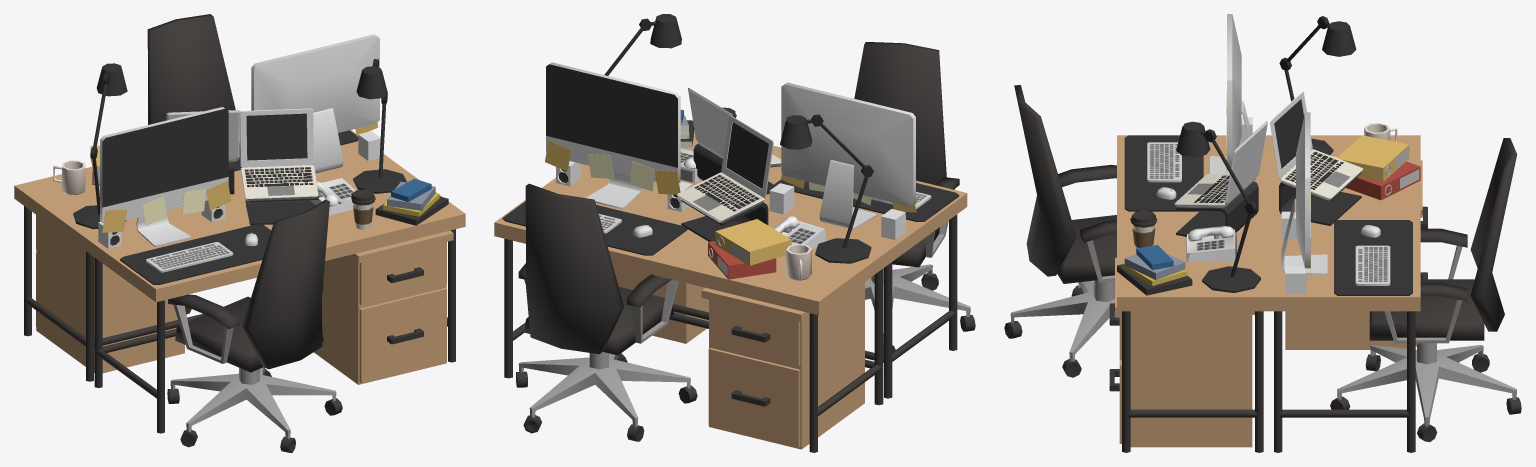
Rendered from Group_desk_07.FBX.
The picture shows the model from 3 angles, left to right: view 1: azimuth 30°, elevation 25°; view 2: azimuth 150°, elevation 25°; view 3: azimuth 270°, elevation 25°; orthographic projection. The views are drawn at different scales.
Parts seen in each view (by area): view 1: chair_01, drawer03 (×2), desk_01, monitor_01, monitor_02, desk_02, chair_02, drawer02, notebook01 (×2), drawer01, desk pad_01, notebook02 (+13 smaller); view 2: chair_02, desk_02, monitor_01, monitor_02, chair_01, drawer03 (×2), desk_01, drawer02, notebook01 (×2), drawer01, desk pad_02, notebook02 (+15 smaller); view 3: drawer03 (×2), chair_02, desk_01, desk_02, chair_01, desk pad_02, desk pad_01, notebook01 (×2), notebook02 (×2), monitor_02, desk stand02 (×2), books_01 (+11 smaller).
Boxes of the visible parts, <box> form: chair_01: <box>167,199,342,452</box>; drawer03 (×2): <box>36,215,453,384</box>; desk_01: <box>85,162,465,433</box>; monitor_01: <box>100,107,228,246</box>; monitor_02: <box>251,34,379,173</box>; desk_02: <box>14,130,394,381</box>; chair_02: <box>147,14,235,314</box>; drawer02: <box>359,288,446,383</box>; notebook01 (×2): <box>166,108,314,167</box>; drawer01: <box>359,242,446,305</box>; desk pad_01: <box>120,224,271,284</box>; notebook02: <box>240,165,318,200</box>; chair_02: <box>516,183,697,441</box>; desk_02: <box>494,171,893,452</box>; monitor_01: <box>781,82,915,229</box>; monitor_02: <box>546,62,680,208</box>; chair_01: <box>854,42,975,354</box>; drawer03 (×2): <box>612,265,864,449</box>; desk_01: <box>580,130,967,398</box>; drawer02: <box>708,348,800,447</box>; notebook01 (×2): <box>688,88,773,198</box>; drawer01: <box>709,299,800,366</box>; desk pad_02: <box>502,201,687,255</box>; notebook02: <box>677,172,764,222</box>; drawer03 (×2): <box>1115,160,1422,447</box>; chair_02: <box>1330,138,1521,441</box>; desk_01: <box>1117,135,1268,452</box>; desk_02: <box>1268,135,1420,452</box>; chair_01: <box>1004,85,1119,377</box>; desk pad_02: <box>1334,220,1412,295</box>; desk pad_01: <box>1124,135,1203,211</box>; notebook01 (×2): <box>1224,91,1312,204</box>; notebook02 (×2): <box>1174,149,1363,207</box>; monitor_02: <box>1281,112,1327,274</box>; desk stand02 (×2): <box>1200,16,1333,292</box>; books_01: <box>1117,244,1192,295</box>.
Bounding box in the file's own units: 169 × 144 × 224.
Materials: 1 (1 with a texture image).
